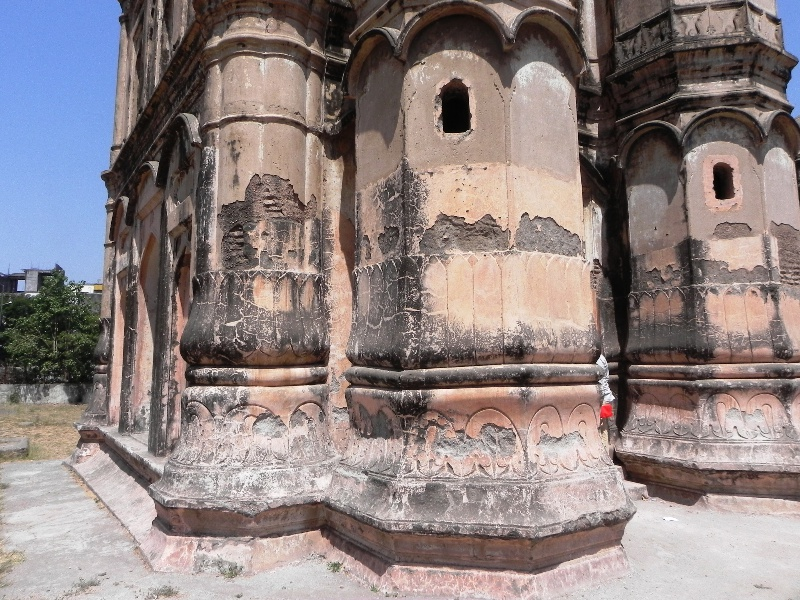Exposed Bricks: (776, 220, 800, 286), (259, 182, 286, 223)
Spalling: (635, 252, 775, 289), (513, 210, 593, 262), (215, 196, 263, 280), (422, 207, 508, 253), (712, 218, 753, 240)
